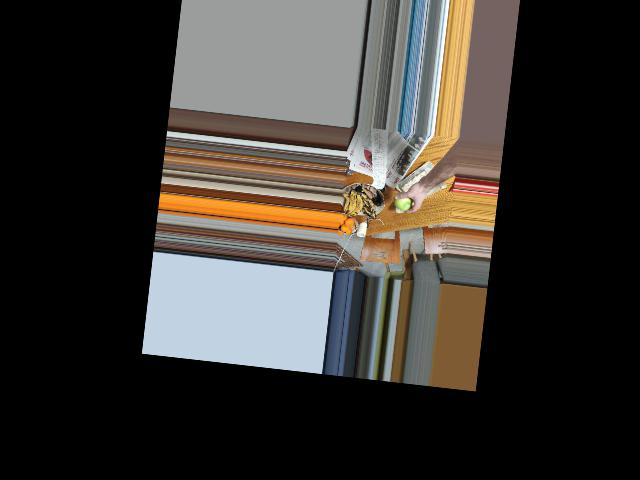apple: (393, 191, 414, 211)
